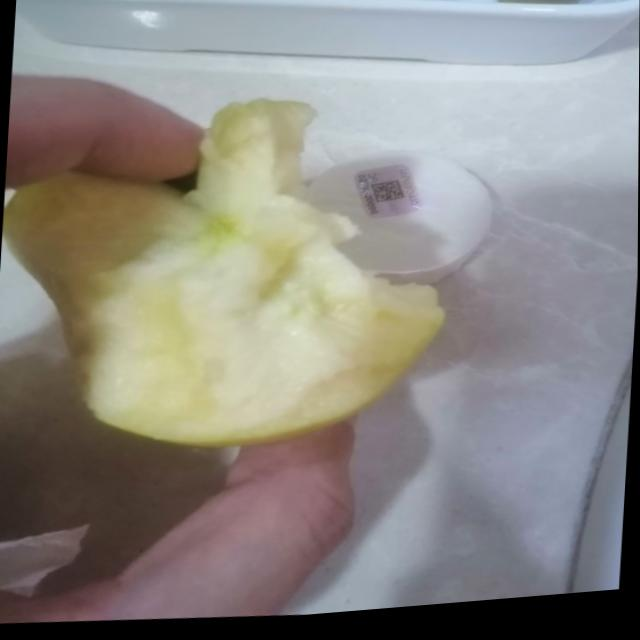datamatrix: (371, 185, 408, 213)
